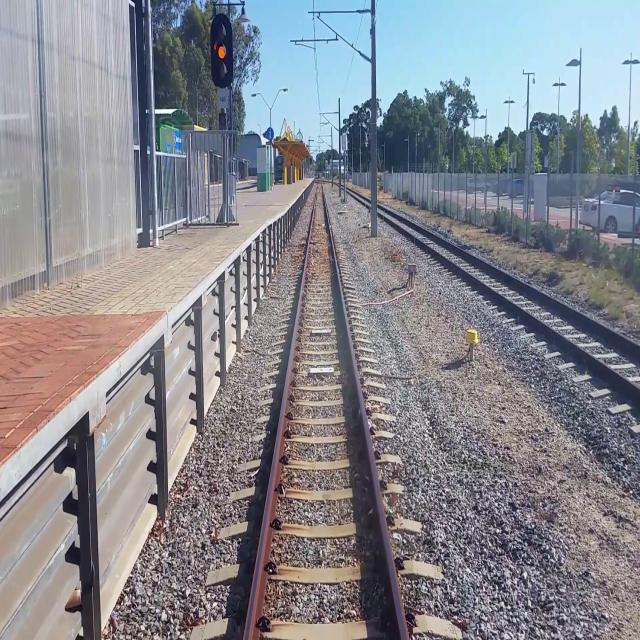rail-track: (249, 182, 403, 639), (377, 204, 640, 385), (346, 187, 369, 204)
